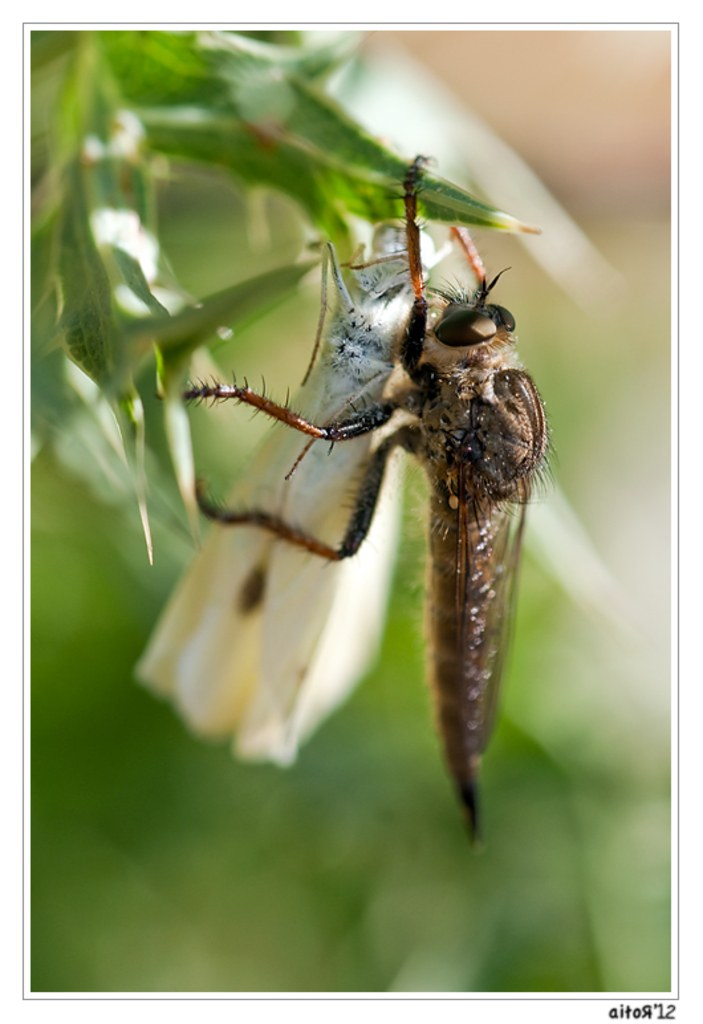insect: (184, 155, 557, 857), (130, 216, 455, 765)
